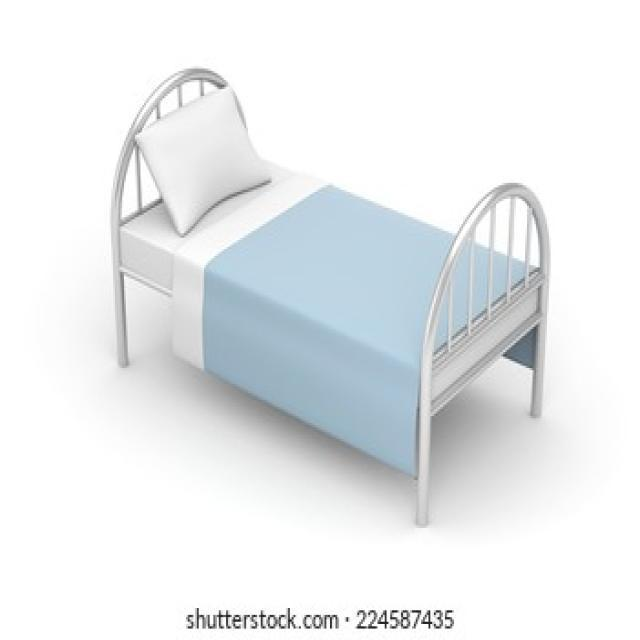bed: (109, 64, 551, 526)
